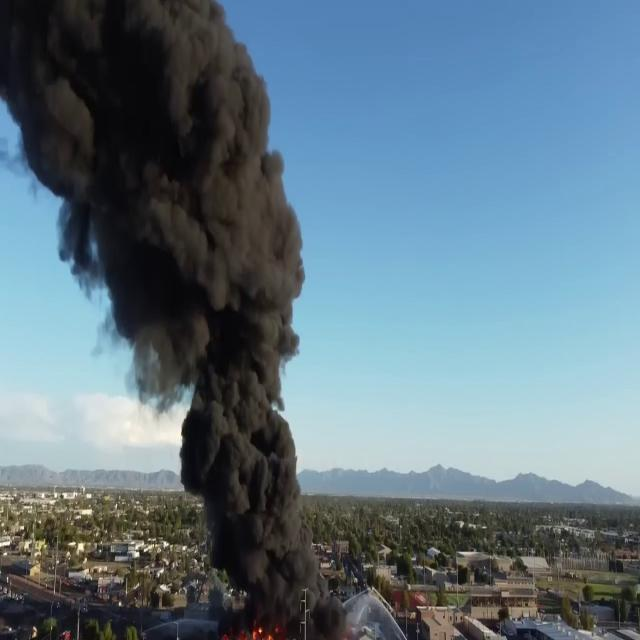Smoke: (21, 0, 322, 581)
